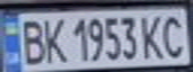1: (66, 14, 87, 62)
3: (118, 12, 142, 61)
5: (103, 14, 124, 61)
9: (84, 14, 106, 62)
B: (15, 15, 48, 65)
C: (157, 11, 190, 58)
K: (136, 11, 169, 60), (39, 15, 69, 64)
